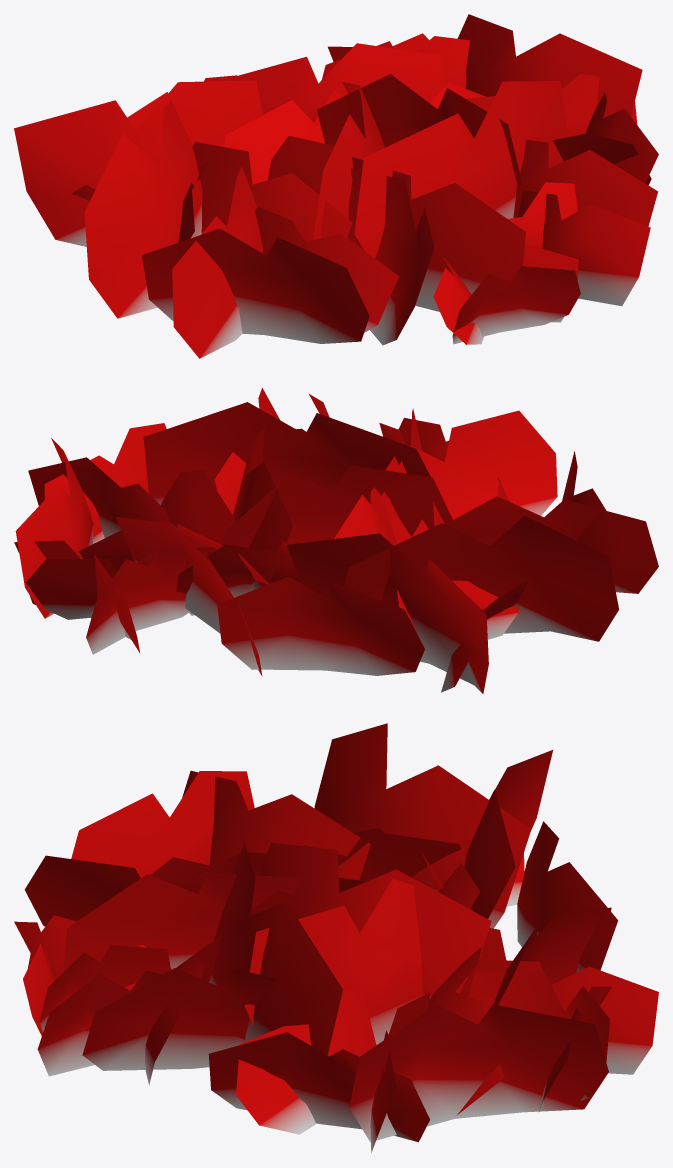
File: grass.fbx
The picture shows the model from 3 angles, top to bottom: view 1: azimuth 30°, elevation 25°; view 2: azimuth 150°, elevation 25°; view 3: azimuth 270°, elevation 25°; orthographic projection. The views are drawn at different scales.
Visible parts, largest first — view 1: Grass Generic Small; view 2: Grass Generic Small; view 3: Grass Generic Small.
Boxes of the visible parts, x1,y1,x2,y2 form: Grass Generic Small: (14,14,658,358); Grass Generic Small: (14,388,658,693); Grass Generic Small: (14,723,658,1152).
Size of the model in its own units: 198 by 51.64 by 171.
